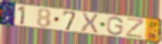1: (17, 5, 27, 26)
7: (62, 10, 77, 31)
8: (36, 8, 53, 29)
G: (106, 16, 125, 36)
X: (80, 12, 100, 35)
Z: (126, 18, 146, 39)
